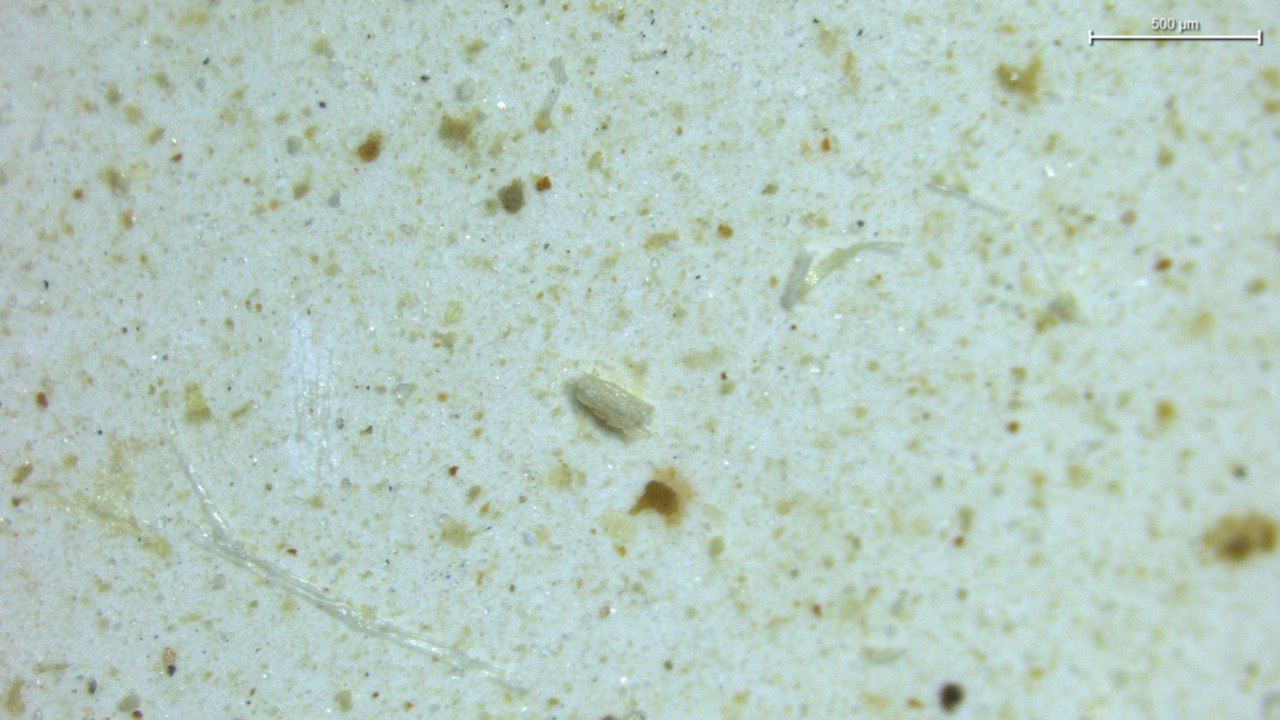microplastic_fragment: (574, 374, 655, 435)
